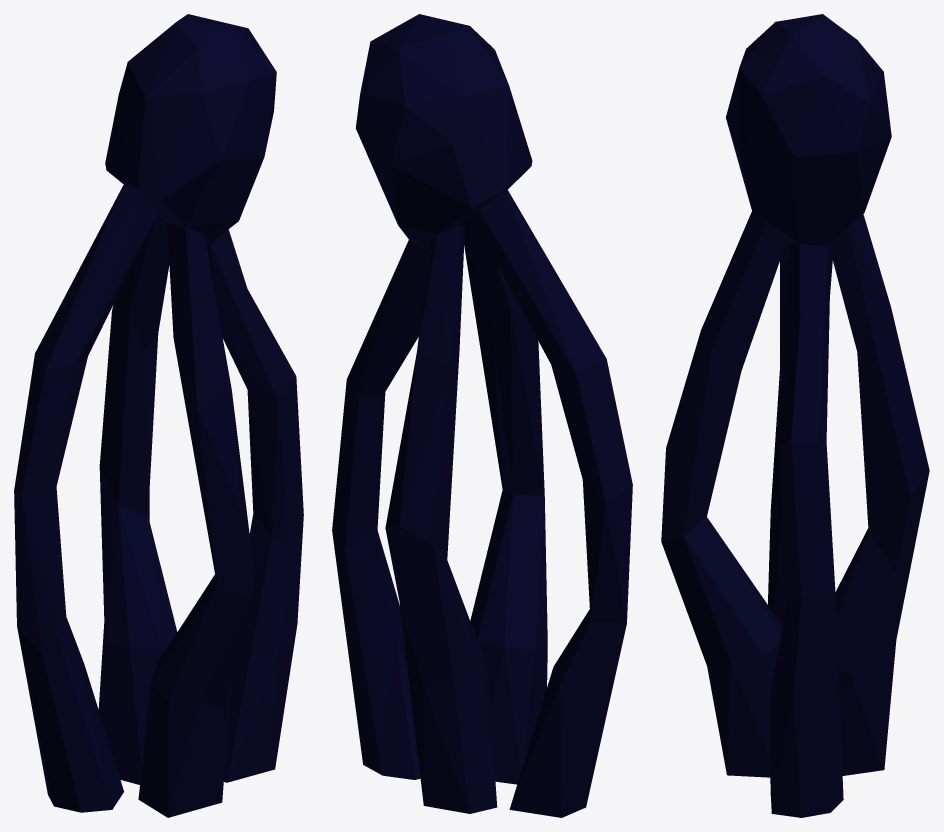
File: Asset3Dead.fbx
3 renders of one model, left to right at view 1: azimuth 30°, elevation 25°; view 2: azimuth 150°, elevation 25°; view 3: azimuth 270°, elevation 25°, orthographic. The views are drawn at different scales.
Parts seen in each view (by area): view 1: BezierCurve.002; view 2: BezierCurve.002; view 3: BezierCurve.002.
Boxes of the visible parts, box(x1,y1,x2,y2) form: BezierCurve.002: box(14, 14, 303, 817); BezierCurve.002: box(332, 14, 632, 817); BezierCurve.002: box(661, 14, 929, 817).
Bounding box in the file's own units: 255 × 633 × 201.
